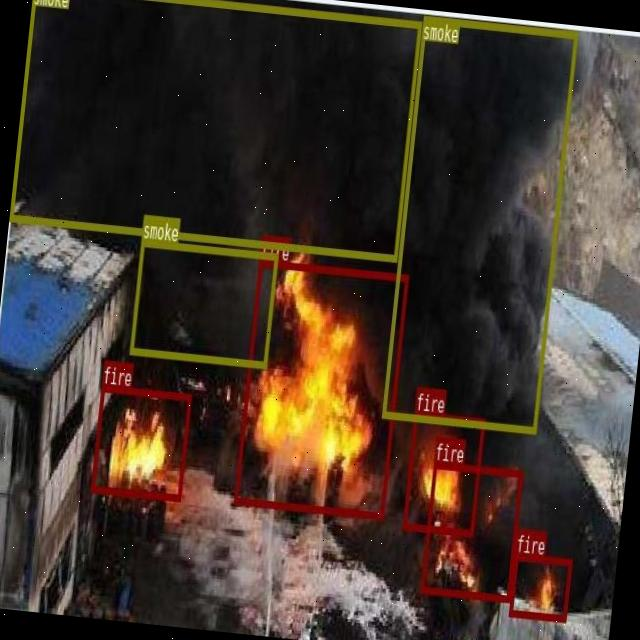fire: (234, 258, 408, 518), (420, 459, 522, 602), (90, 384, 190, 500), (402, 410, 484, 535), (508, 552, 572, 622)
smoke: (9, 0, 421, 260), (382, 14, 578, 432), (128, 238, 278, 366)
